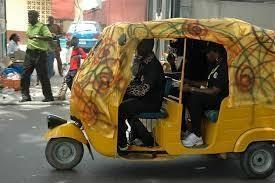keke: (37, 10, 275, 177)
